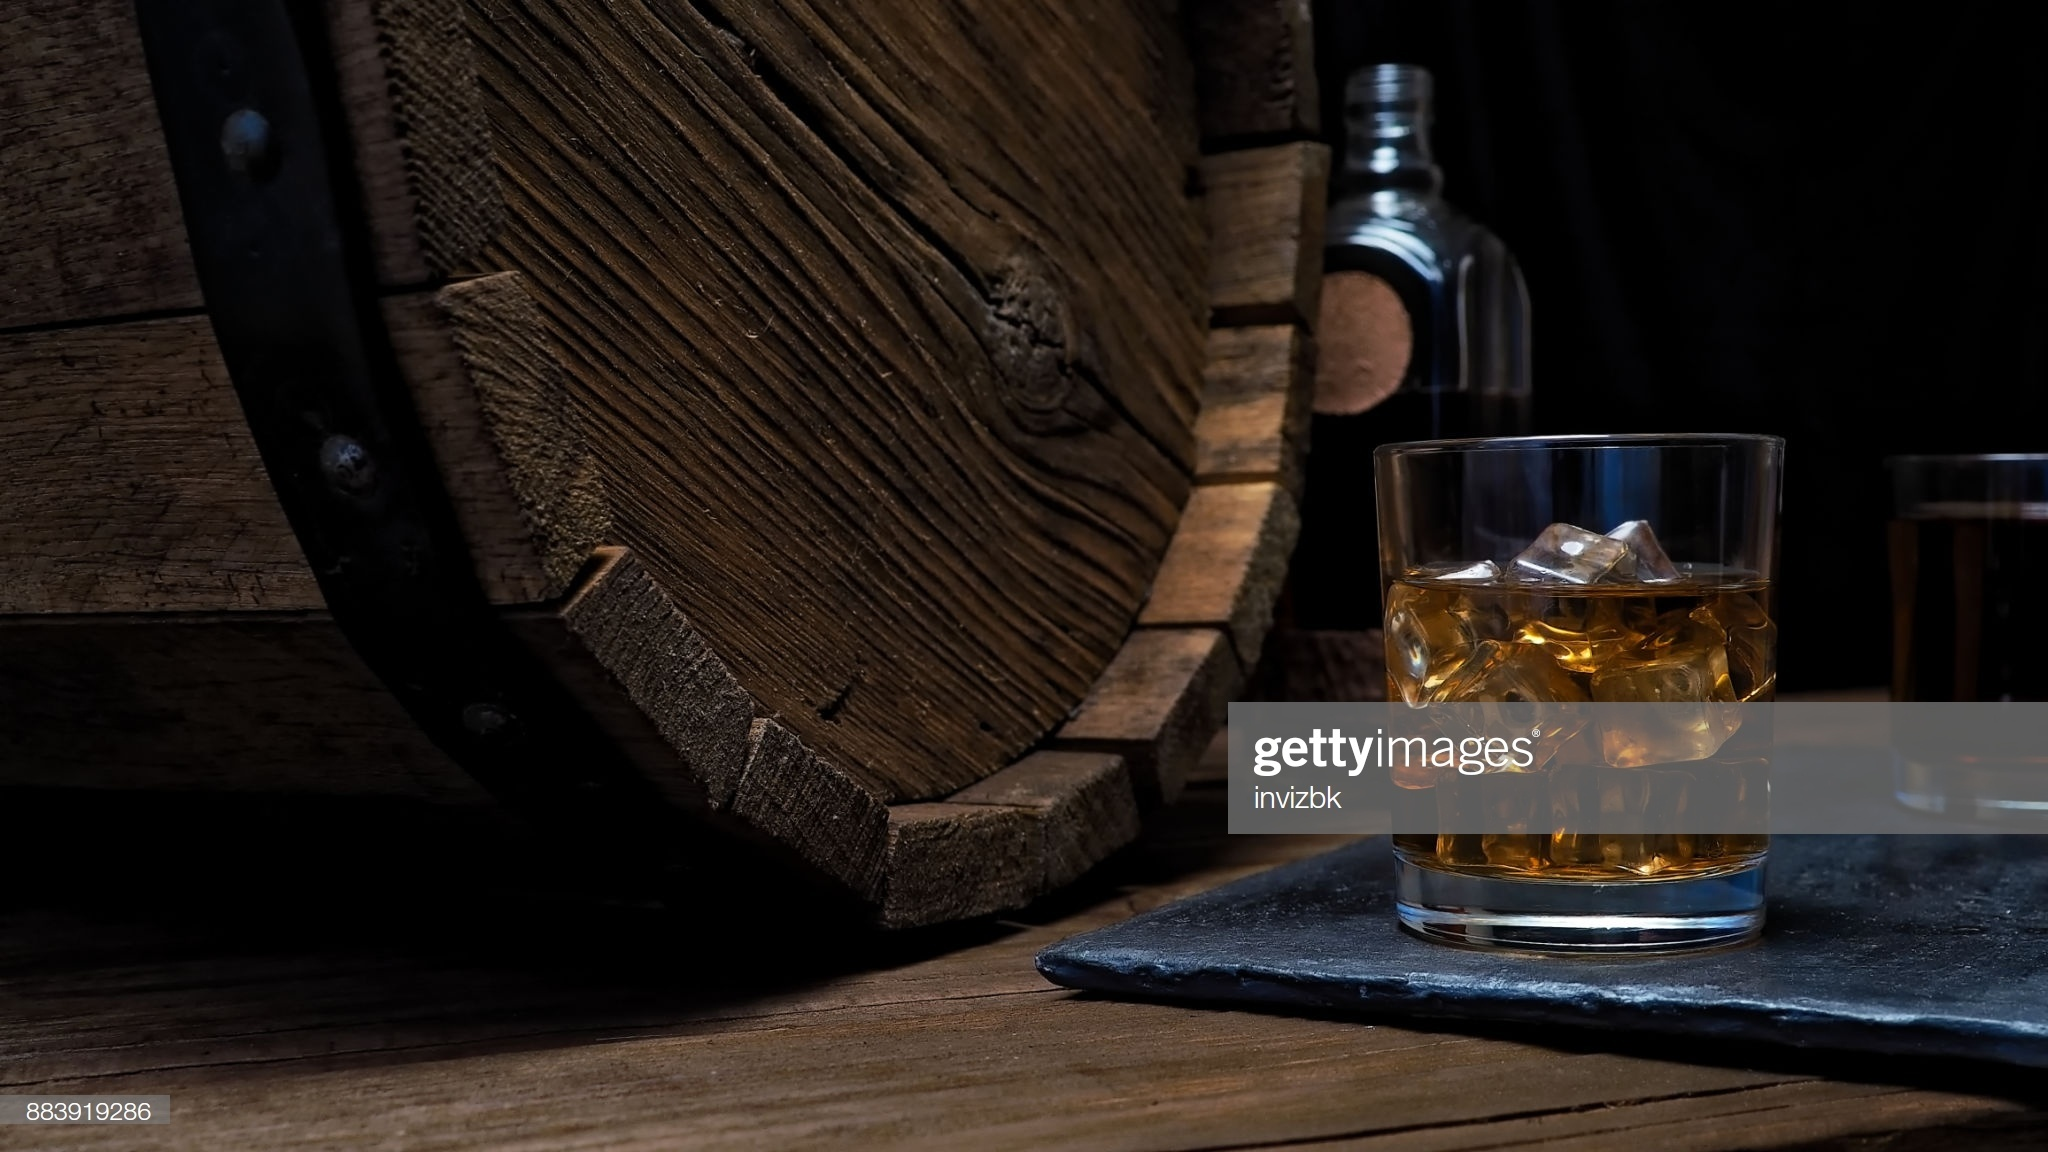whiskey: (1385, 426, 1791, 931)
